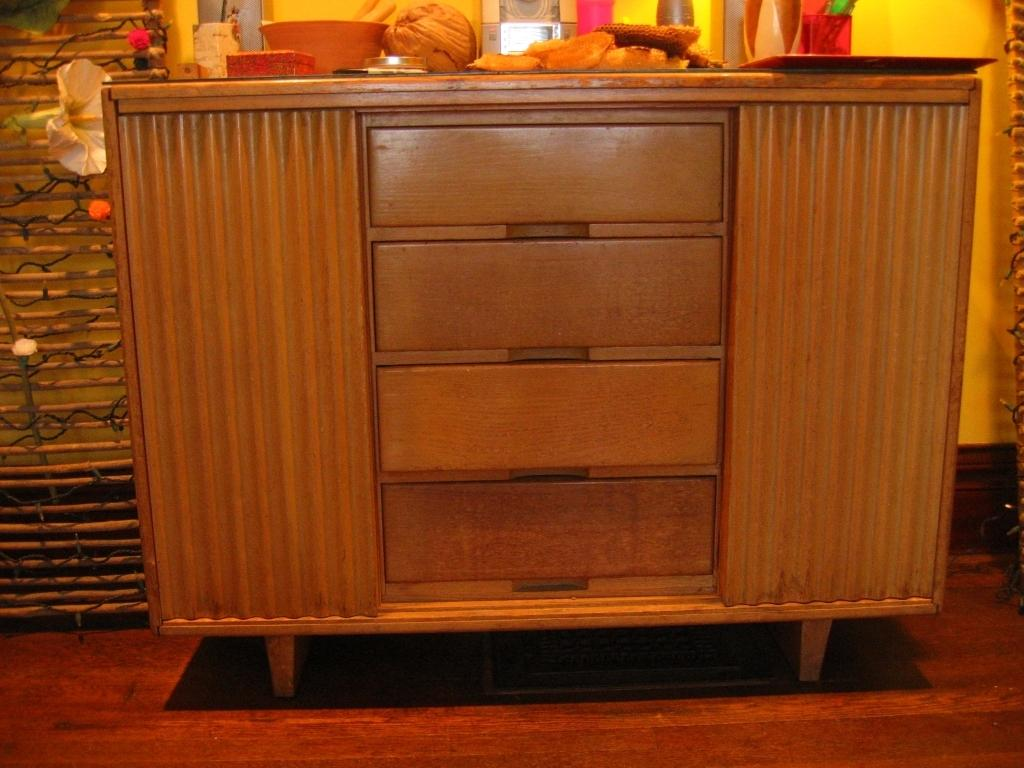cabinet_door: (370, 234, 724, 344), (380, 366, 717, 468), (366, 124, 718, 216), (381, 484, 713, 575)
handle: (502, 202, 590, 249), (499, 457, 595, 500), (498, 330, 594, 364), (507, 566, 595, 598)
